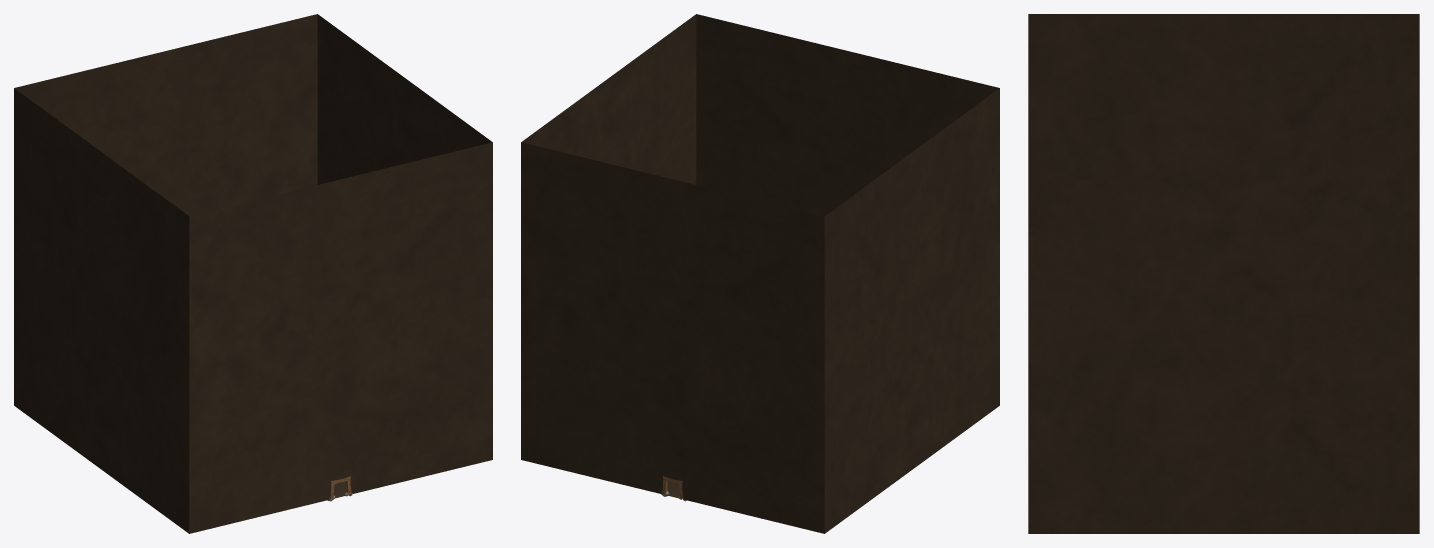
File: _straight.fbx
The picture shows the model from 3 angles, left to right: view 1: azimuth 30°, elevation 25°; view 2: azimuth 150°, elevation 25°; view 3: azimuth 270°, elevation 25°; orthographic projection. The views are drawn at different scales.
Parts seen in each view (by area): view 1: 4Pared, 3ParedSinPuerta, 2Pared, 1ParedSinPuerta, 4Pared.001, 4Pared.002; view 2: 2Pared, 3ParedSinPuerta, 4Pared, 1ParedSinPuerta, 2Pared.001, 2Pared.002; view 3: 1ParedSinPuerta, 3ParedSinPuerta.
Part boxes in pixels (box(x1,y1,x2,y2)): 4Pared: box(189, 142, 492, 517); 3ParedSinPuerta: box(14, 88, 189, 533); 2Pared: box(14, 14, 317, 216); 1ParedSinPuerta: box(317, 14, 492, 184); 4Pared.001: box(189, 483, 331, 533); 4Pared.002: box(350, 444, 492, 494); 2Pared: box(521, 142, 824, 517); 3ParedSinPuerta: box(824, 88, 999, 533); 4Pared: box(696, 14, 999, 216); 1ParedSinPuerta: box(521, 14, 696, 184); 2Pared.001: box(682, 483, 824, 533); 2Pared.002: box(521, 444, 664, 494); 1ParedSinPuerta: box(1028, 179, 1419, 533); 3ParedSinPuerta: box(1028, 14, 1419, 179).
Bounding box in the file's own units: 9600 × 9693 × 9608.
